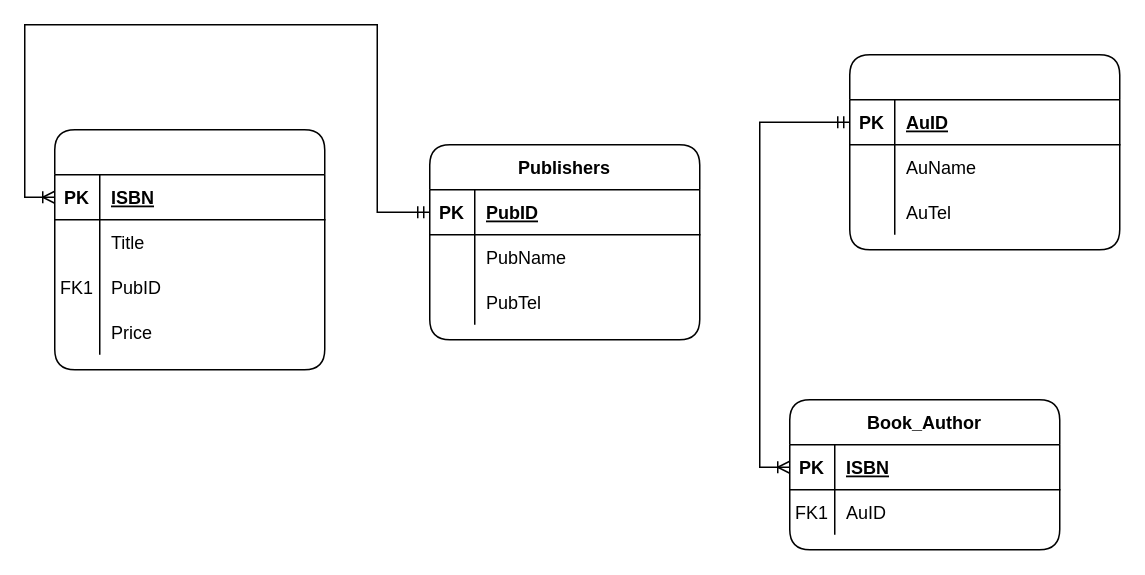
This 1145x575 diagram has some shape labels left out. Here are the shapes that lost their labels. From the top down, the box of each, then its label:
(848, 53, 1120, 250): Authors
(53, 128, 325, 370): Books
